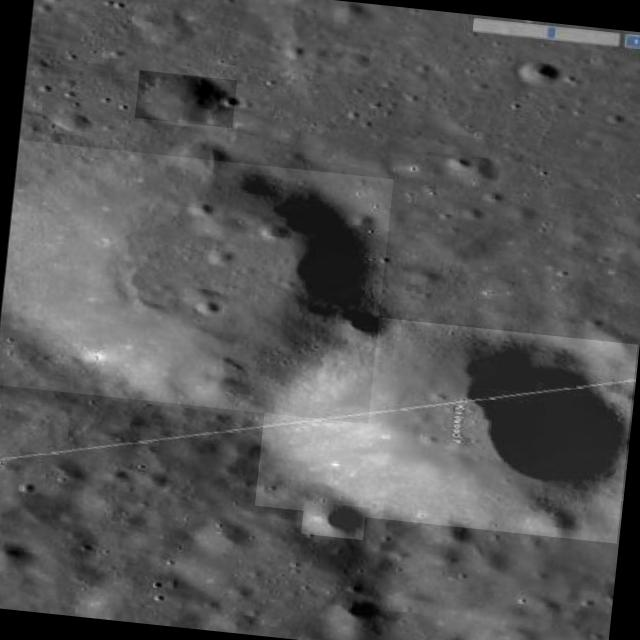crater: (0, 140, 393, 424), (254, 306, 637, 543), (134, 69, 237, 128), (300, 500, 366, 540)
